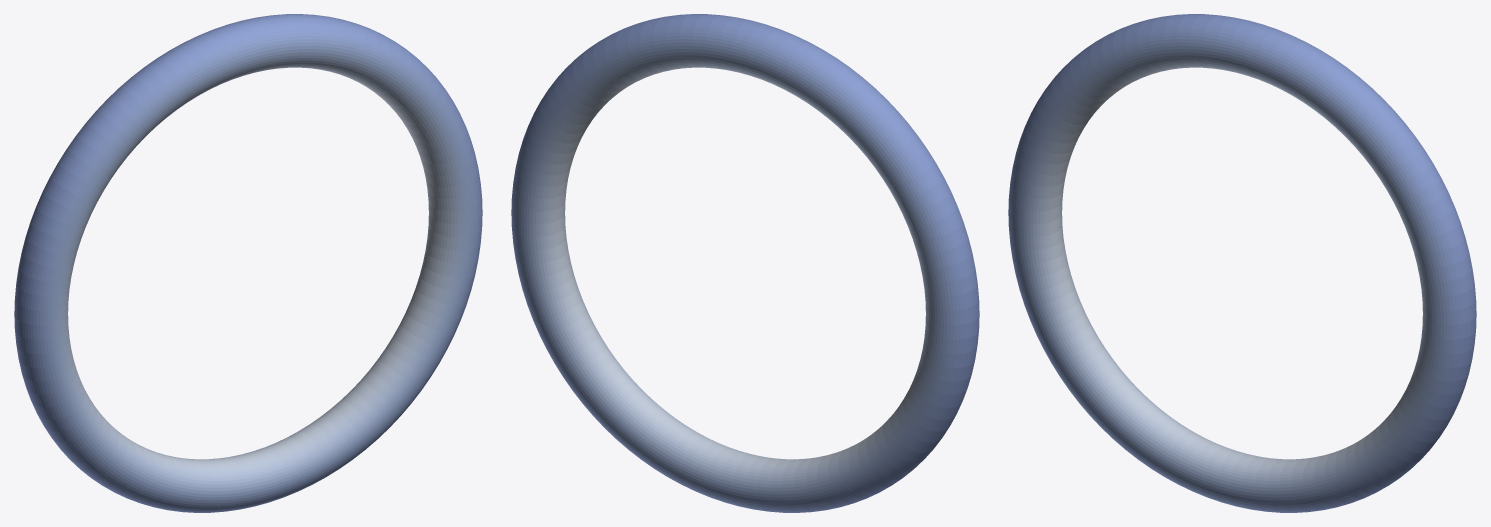
3 renders of one model, left to right at view 1: azimuth 30°, elevation 25°; view 2: azimuth 150°, elevation 25°; view 3: azimuth 330°, elevation 25°, orthographic.
Visible parts, largest first — view 1: world; view 2: world; view 3: world.
Boxes of the visible parts, <box> form: world: <box>14,14,482,512</box>; world: <box>511,14,979,512</box>; world: <box>1008,14,1476,512</box>.
Bounding box in the file's own units: 30.4 × 30.4 × 3.06.
